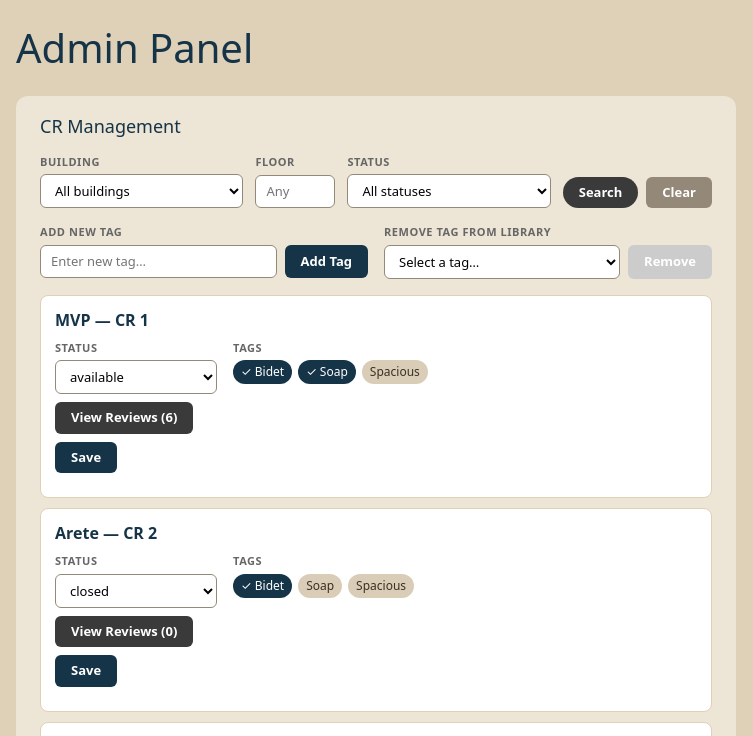
CR Management — View Reviews › clicking View Reviews shows the first 5 reviews; the 6th needs page 2
Expected: the text "MVP — CR 1" is shown, left=55, top=309, right=149, bottom=331
Click the button "View Reviews (6)": (124, 418) left=55, top=402, right=193, bottom=434
(page scrolled)
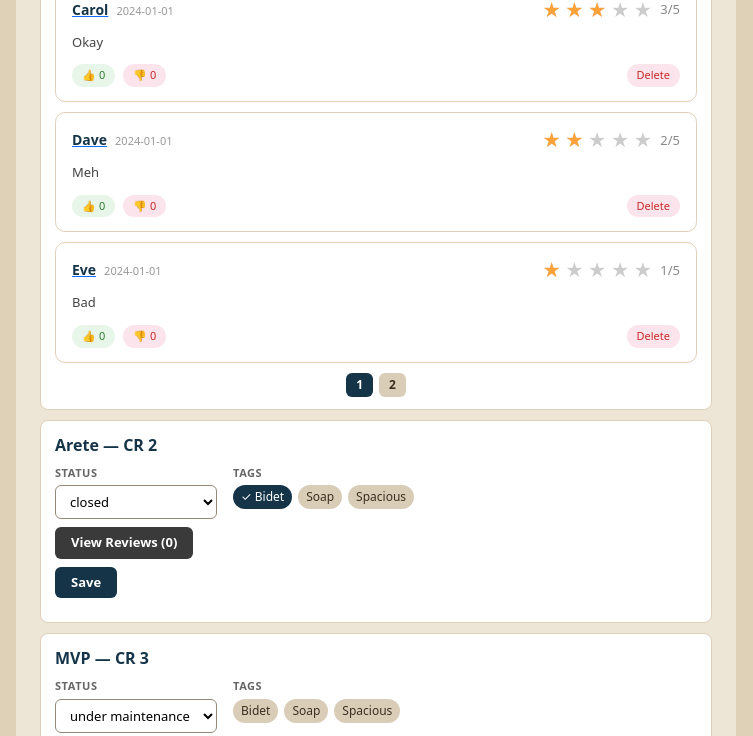
Expected: the text "Carol" is shown, left=72, top=0, right=108, bottom=19
Expected: the text "Dave" is shown, left=72, top=130, right=107, bottom=149
Expected: the text "Eve" is shown, left=72, top=260, right=96, bottom=279
